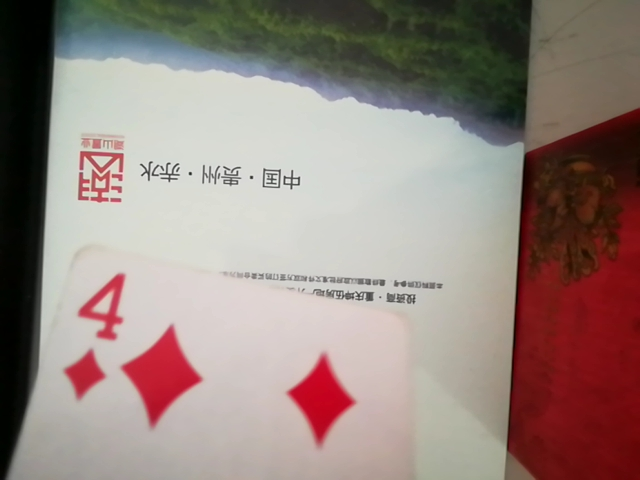fk 4: (8, 245, 445, 473)
